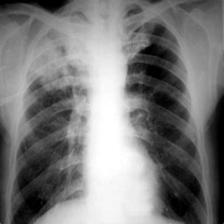tuberculosis: (9, 6, 211, 224)
